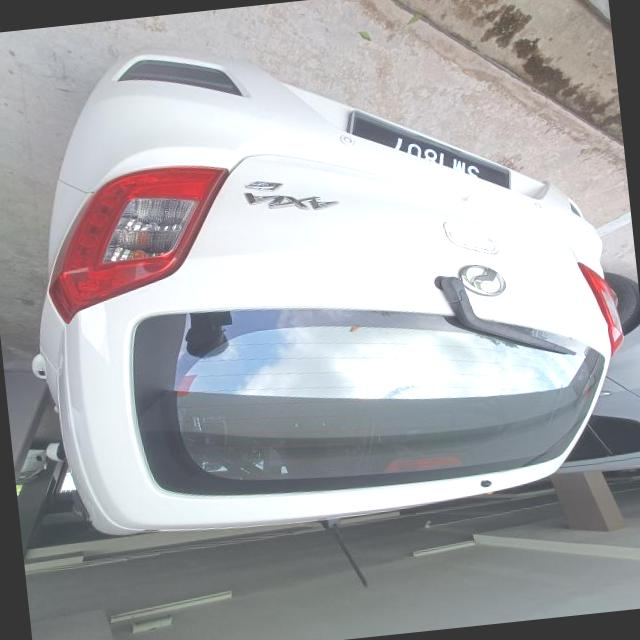PeroduaAxia: (0, 2, 640, 552)
